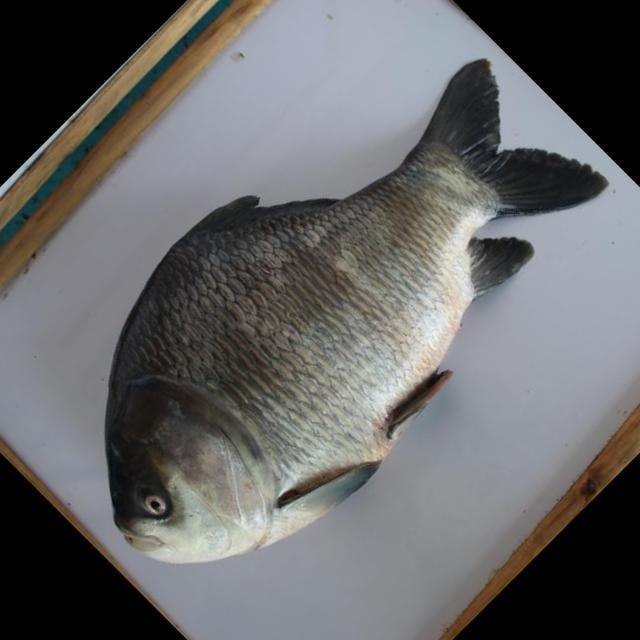Catla: (94, 64, 609, 571)
